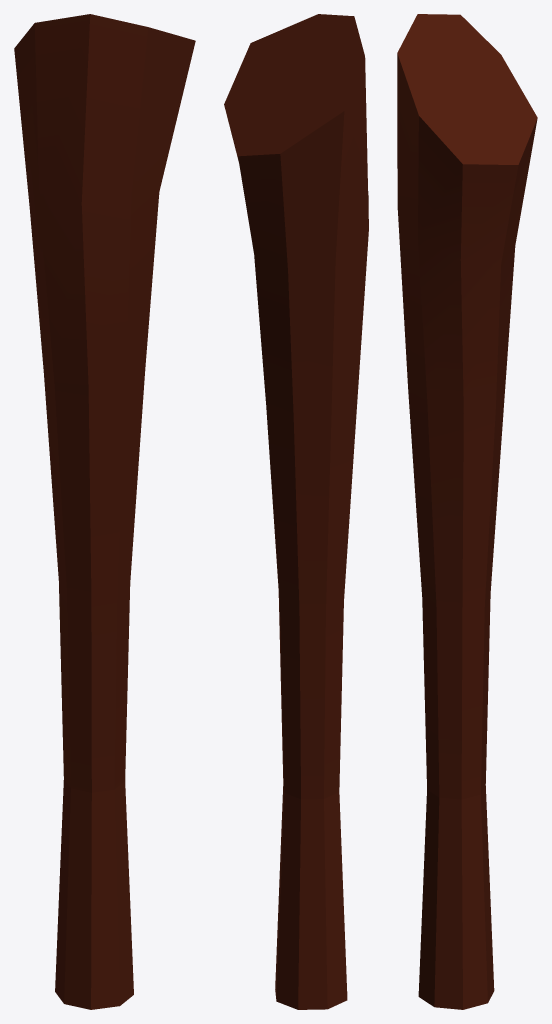
Rendered from club.obj.
3 views of the same model, side by side, from view 1: azimuth 30°, elevation 25°; view 2: azimuth 150°, elevation 25°; view 3: azimuth 270°, elevation 25° (orthographic). The views are drawn at different scales.
Visible parts, largest first — view 1: baseballBat_Cube; view 2: baseballBat_Cube; view 3: baseballBat_Cube.
Boxes of the visible parts, bbox=[...] form: baseballBat_Cube: bbox=[14, 14, 195, 1009]; baseballBat_Cube: bbox=[224, 14, 368, 1009]; baseballBat_Cube: bbox=[397, 14, 537, 1009].
Bounding box in the file's own units: 0.1451 × 0.9603 × 0.1261.
